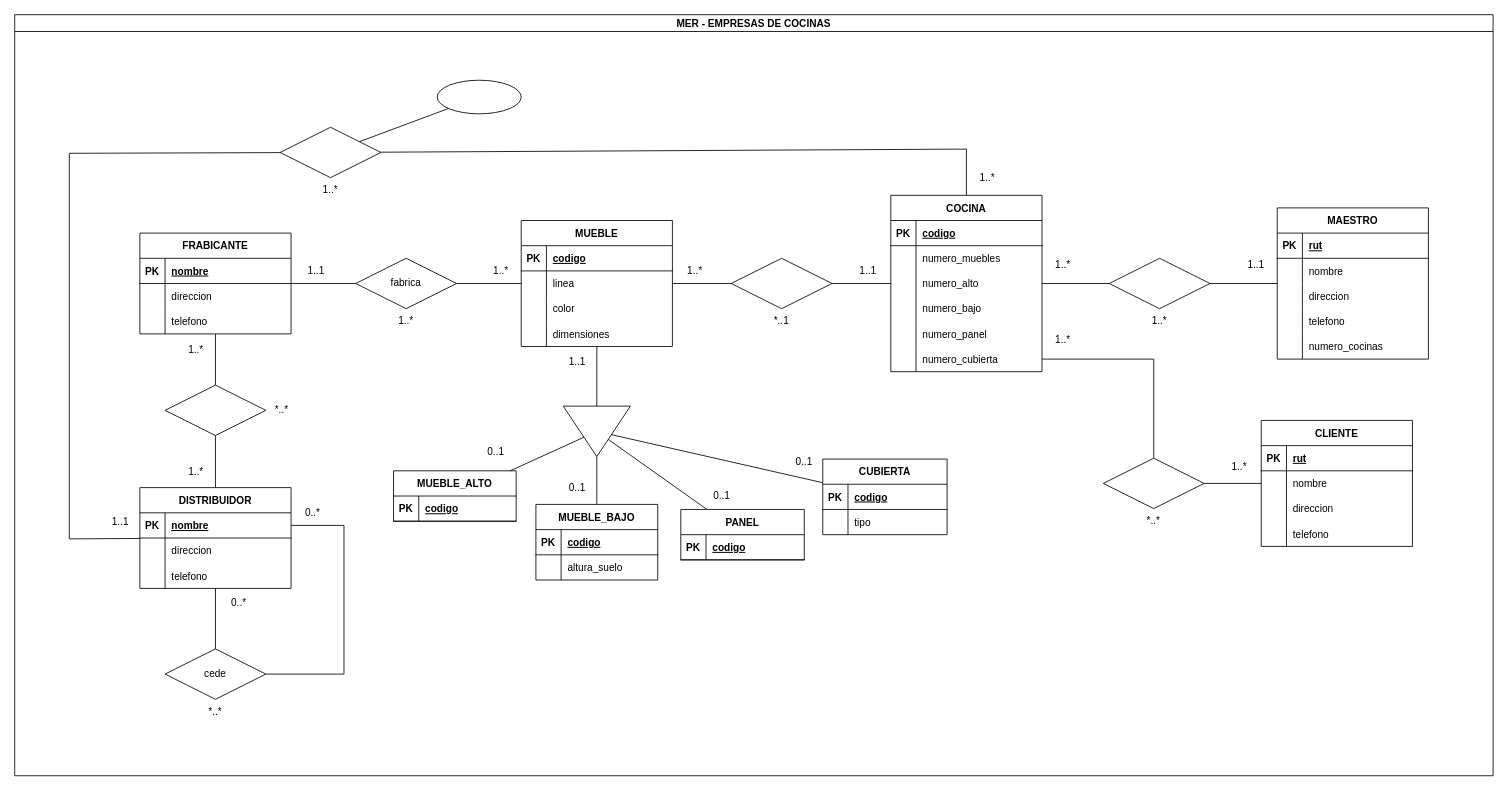
Image size: 1508x790. Some labels were removed from this diagram. The centre of each missing label's shape, as x and y in pixels:
"compone" goes at (781,283).
"compra" goes at (1153,483).
"fecha_venta" goes at (478,96).
"monta" goes at (1159,283).
"trabaja" goes at (215,410).
"vende" goes at (330,152).
